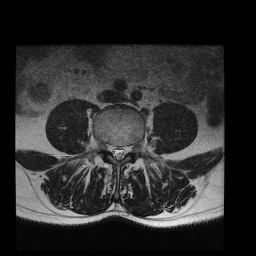CCS_normal: (115, 140, 121, 164)
LFS_normal: (127, 137, 134, 157)
LLS_normal: (121, 138, 127, 163)
RFS_normal: (104, 136, 110, 157)
RLS_normal: (110, 138, 115, 162)
